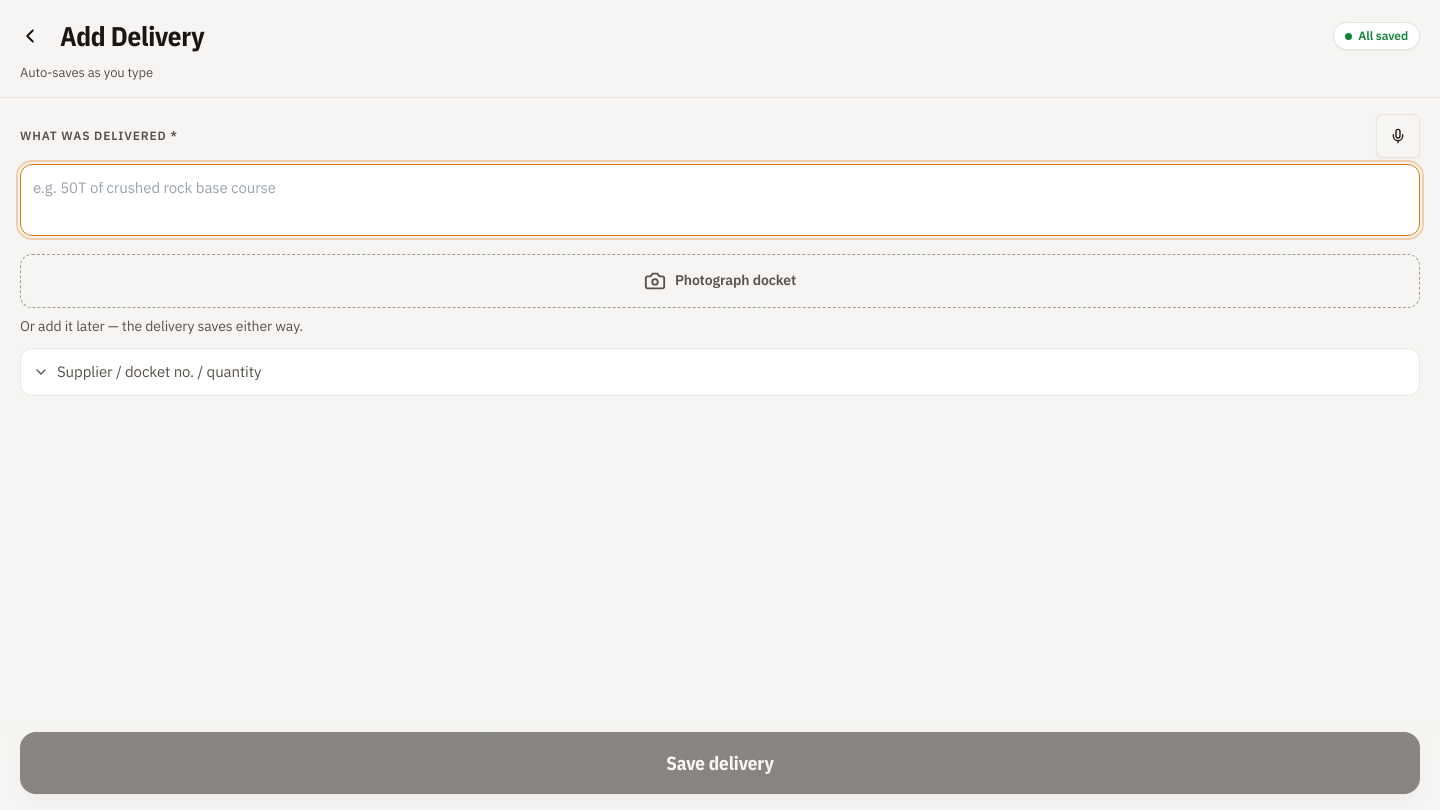
Test: DeliveryFormScreen — docket capture › offers the docket capture above the fold and hides the typed detail behind the disclosure
Expected: the button "Photograph docket" is shown, [20,254,1420,308]
Expected: the field with placeholder "Supplier name" is not shown
Click the button "Supplier / docket no. / quantity": (159, 371) [20,348,1420,396]
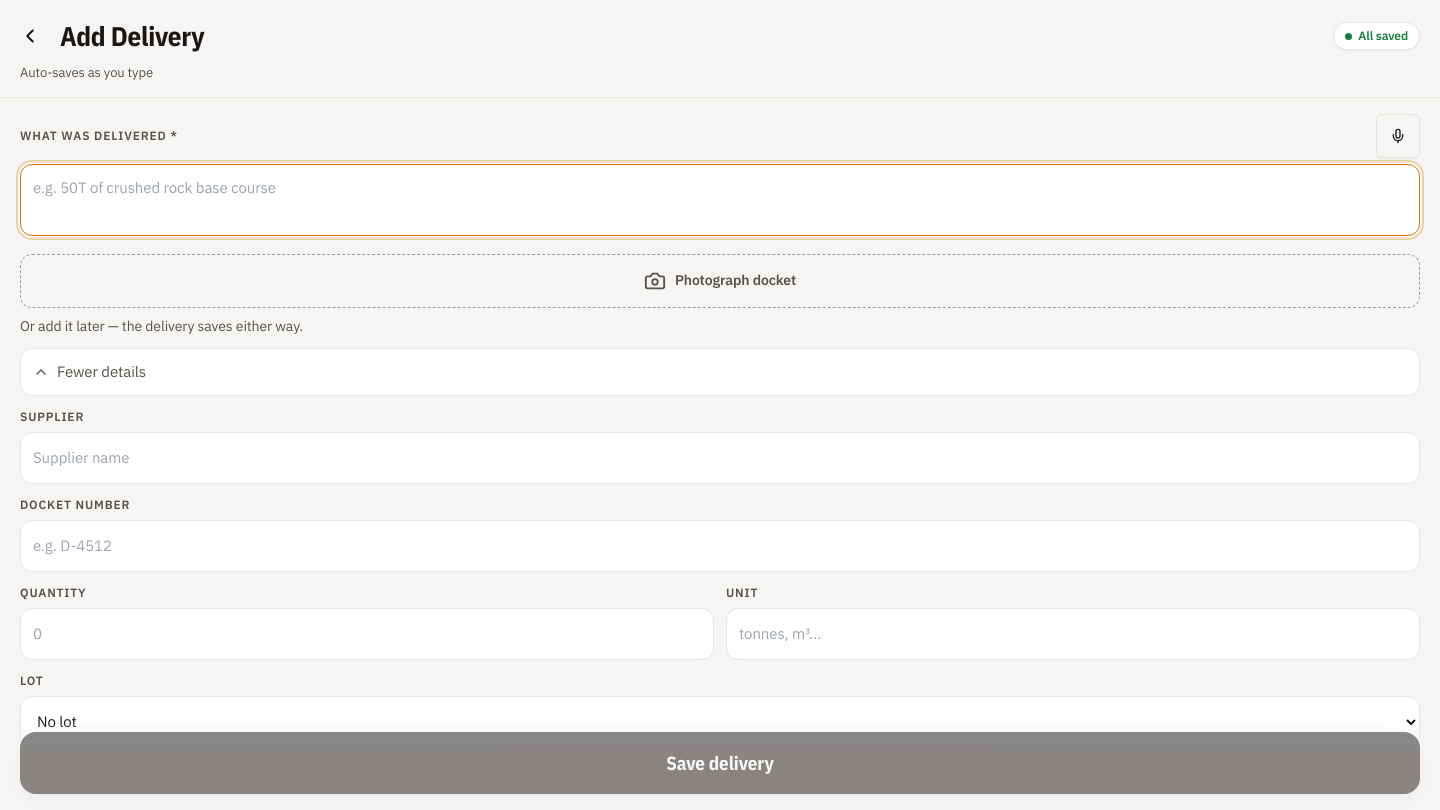
Expected: the field with placeholder "Supplier name" is shown, [20,432,1420,484]
